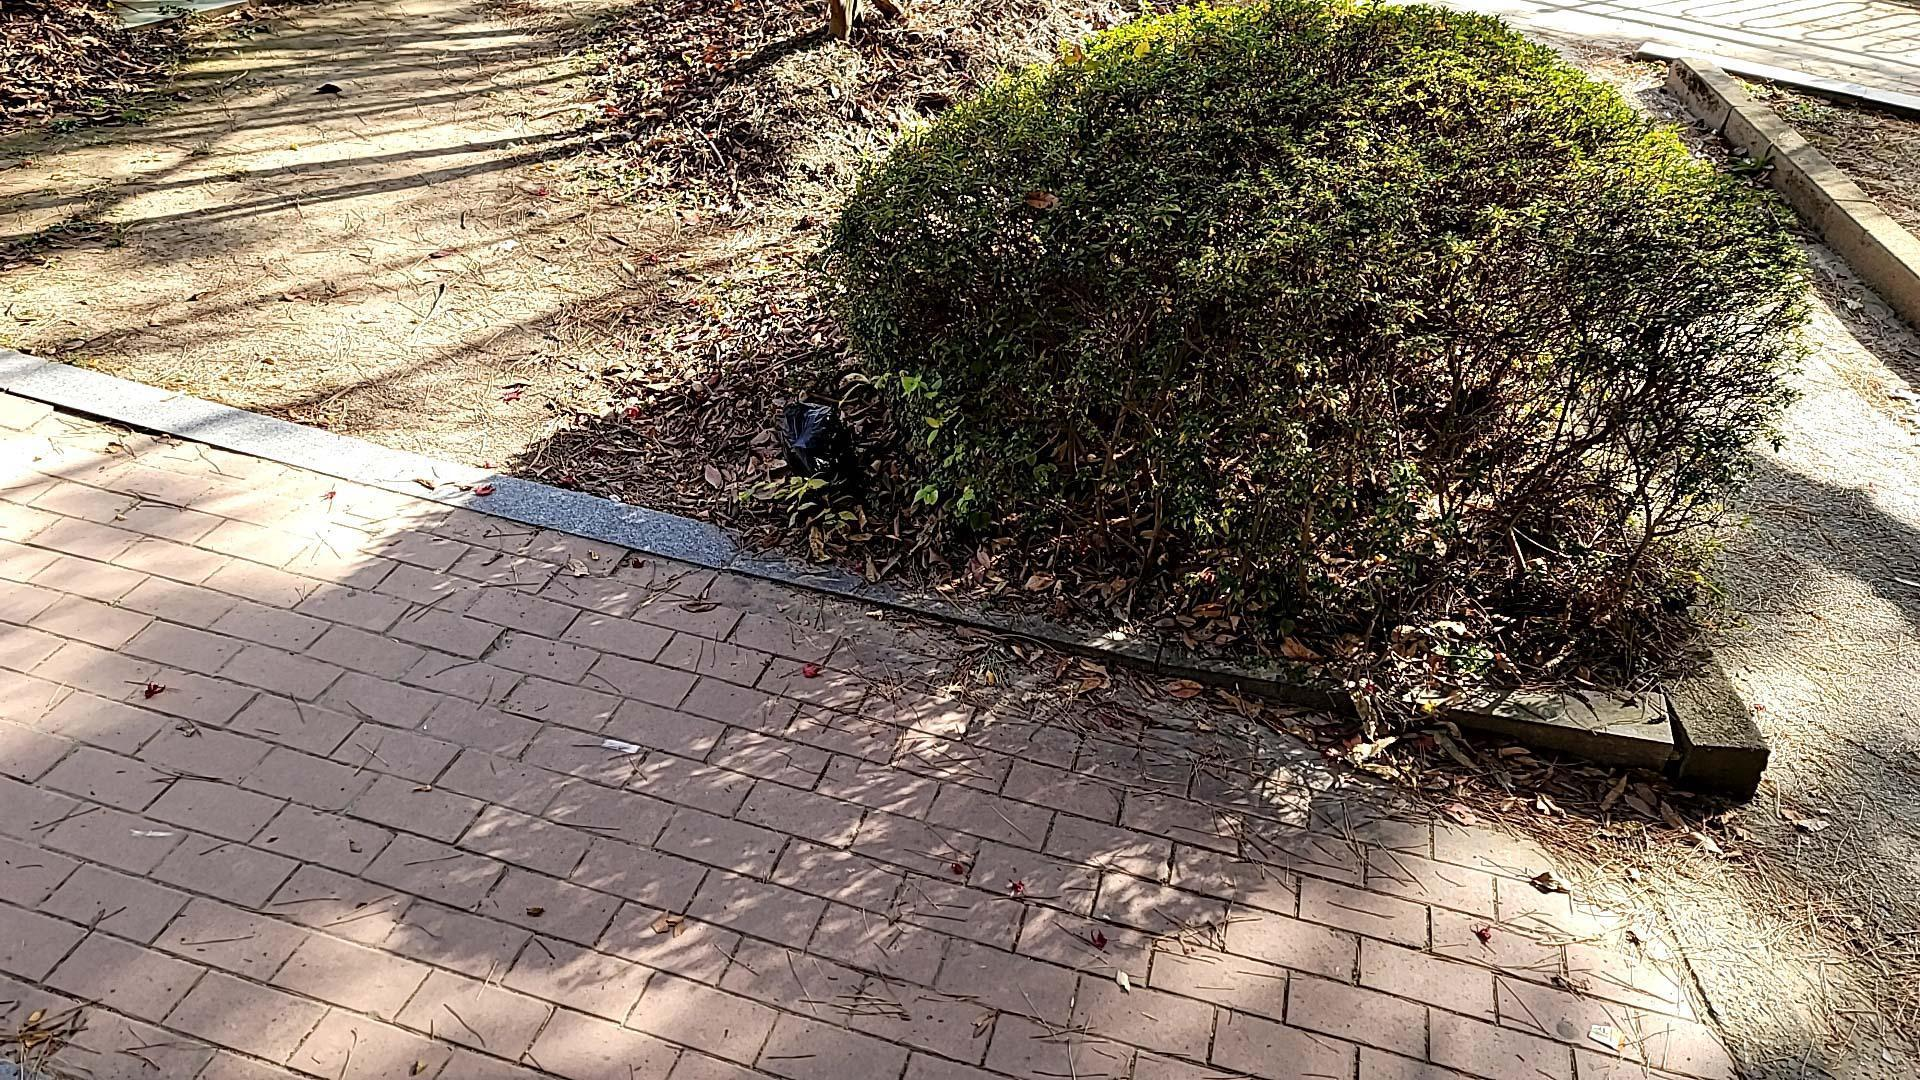black_bag: (775, 394, 872, 504)
